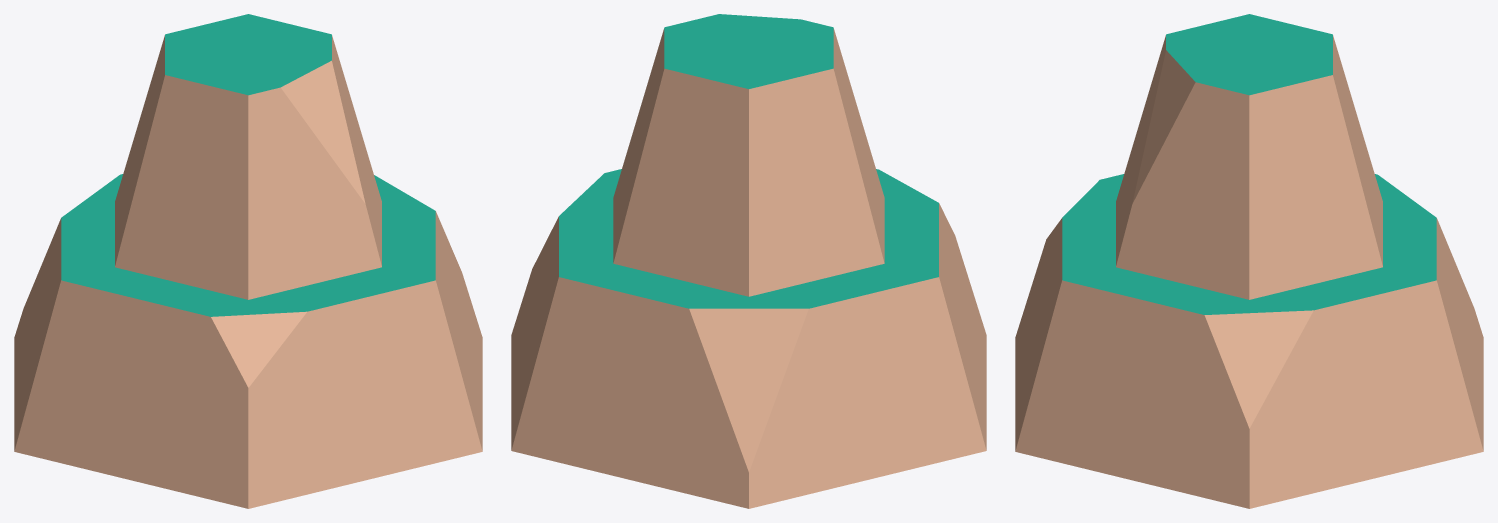
The model's file is rock_smallF.glb.
3 views of the same model, side by side, from view 1: azimuth 30°, elevation 25°; view 2: azimuth 150°, elevation 25°; view 3: azimuth 270°, elevation 25° (orthographic).
Visible parts, largest first — view 1: rock_smallF; view 2: rock_smallF; view 3: rock_smallF.
Boxes of the visible parts, x1,y1,x2,y2 form: rock_smallF: (14,14,482,508); rock_smallF: (511,14,986,508); rock_smallF: (1015,14,1483,508).
Bounding box in the file's own units: 0.4243 × 0.2944 × 0.3675.
